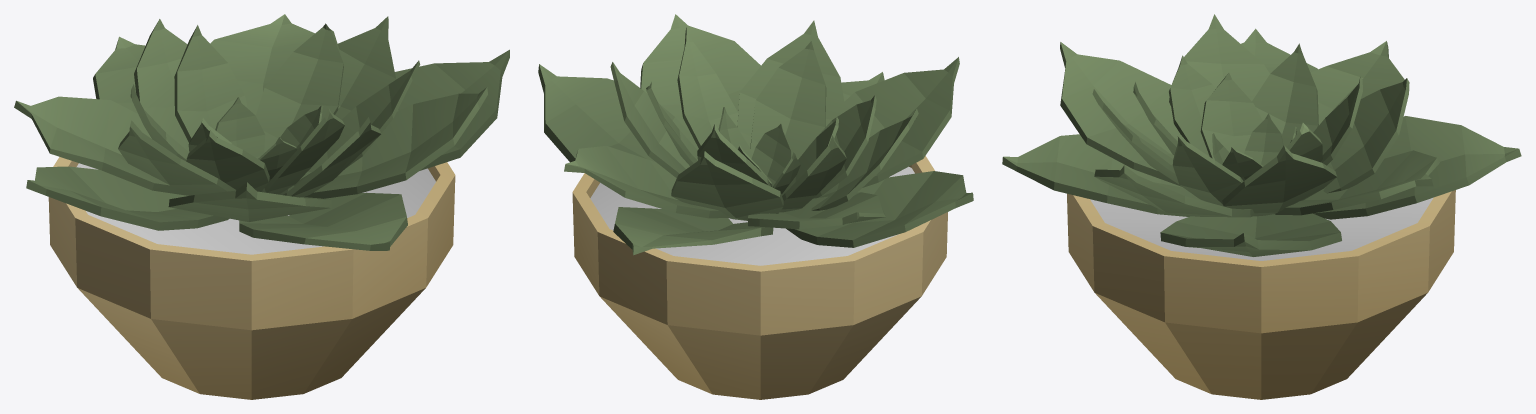
File: Plant_17.fbx
3 renders of one model, left to right at view 1: azimuth 30°, elevation 25°; view 2: azimuth 150°, elevation 25°; view 3: azimuth 270°, elevation 25°, orthographic. The views are drawn at different scales.
Visible parts, largest first — view 1: Plant_17; view 2: Plant_17; view 3: Plant_17.
Boxes of the visible parts, <box> form: Plant_17: <box>14,14,509,399</box>; Plant_17: <box>538,14,973,399</box>; Plant_17: <box>1002,14,1521,399</box>.
Bounding box in the file's own units: 19.25 × 11.48 × 18.96.
